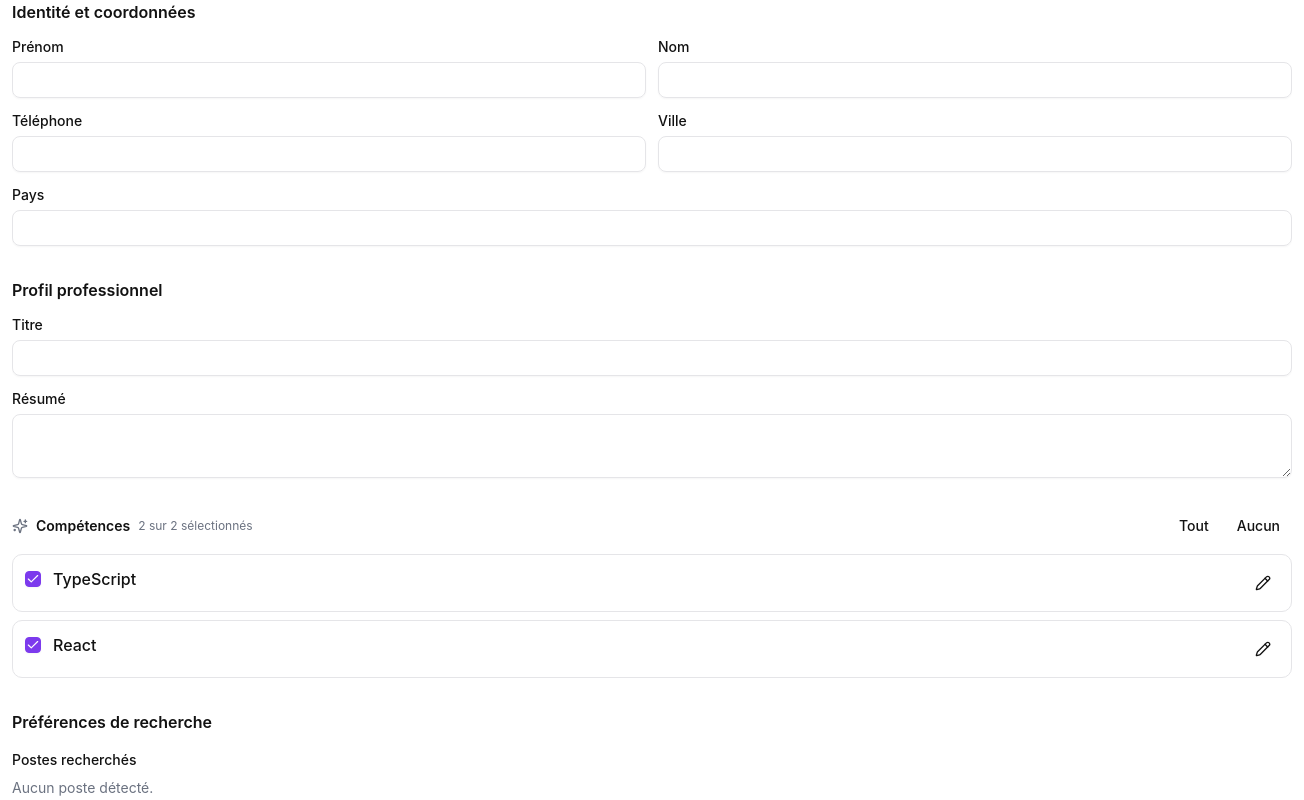
Test: ExtractionReview › « Aucun » deselectionne un bloc et le compteur du pied de page se met a jour
Note: Seul bloc rendu (l'extraction ne porte que des compétences) : un seul « Aucun » dans la page.
Click the button "Aucun".
click(1258, 526)  # box [1225,510,1292,542]
(page scrolled)
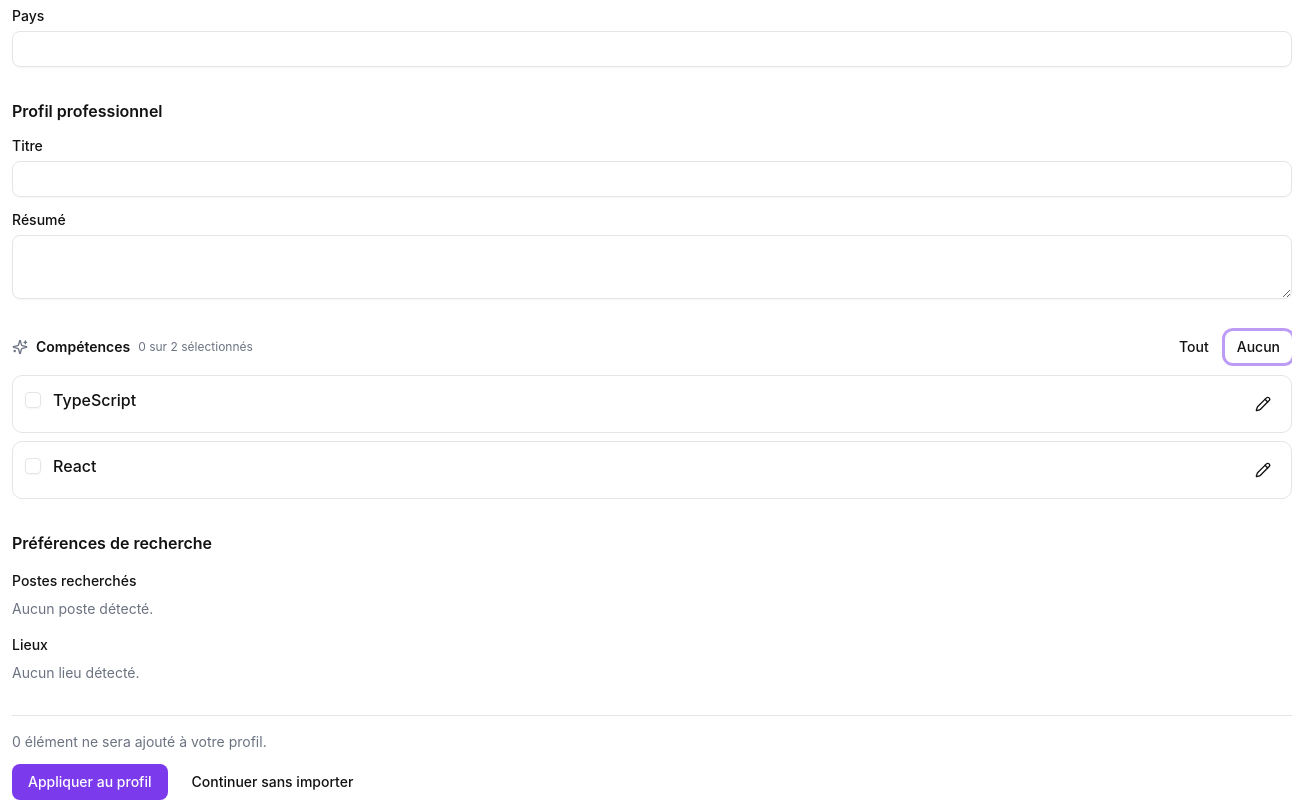
Expected: the text "0 sur 2 sélectionnés" is shown, [138,339,253,355]
Expected: the text "0 élément ne sera ajouté à votre profil." is shown, [12,733,267,750]
